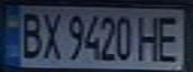0: (115, 12, 136, 62)
2: (100, 11, 118, 62)
4: (81, 11, 103, 61)
9: (63, 10, 84, 61)
B: (15, 8, 45, 60)
E: (154, 11, 187, 63)
H: (136, 12, 163, 62)
X: (36, 8, 63, 61)
